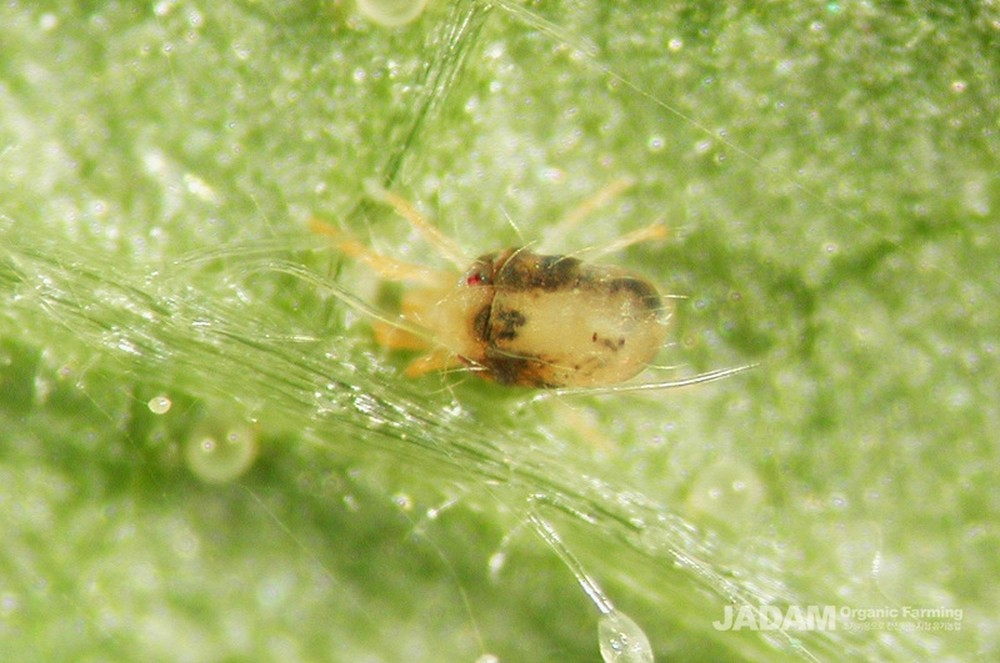Aracnido Rojo: (301, 166, 734, 413)
